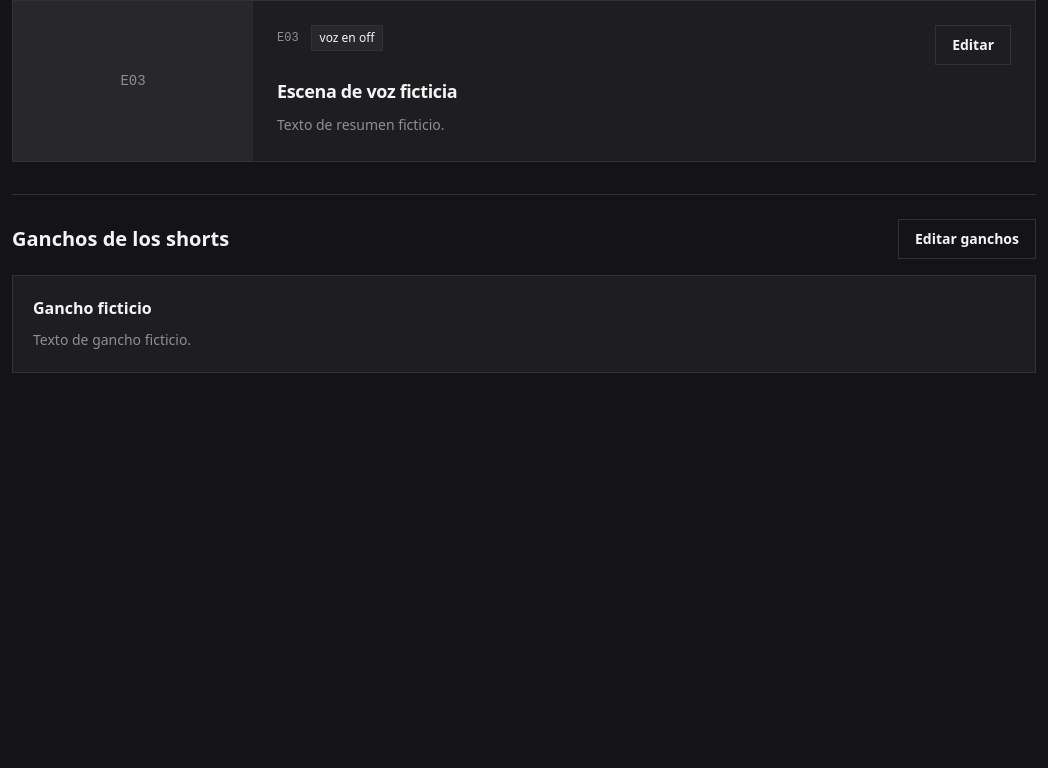
Scenario: GuionEditable: edición mientras se prepara la lección › muestra el 409 de la lección ocupada como un error normal
This screenshot has width=1048, height=768.
Click the button with aria-label "Editar E03" at coordinates (973, 45), box x1=935 y1=25 x2=1011 y2=65
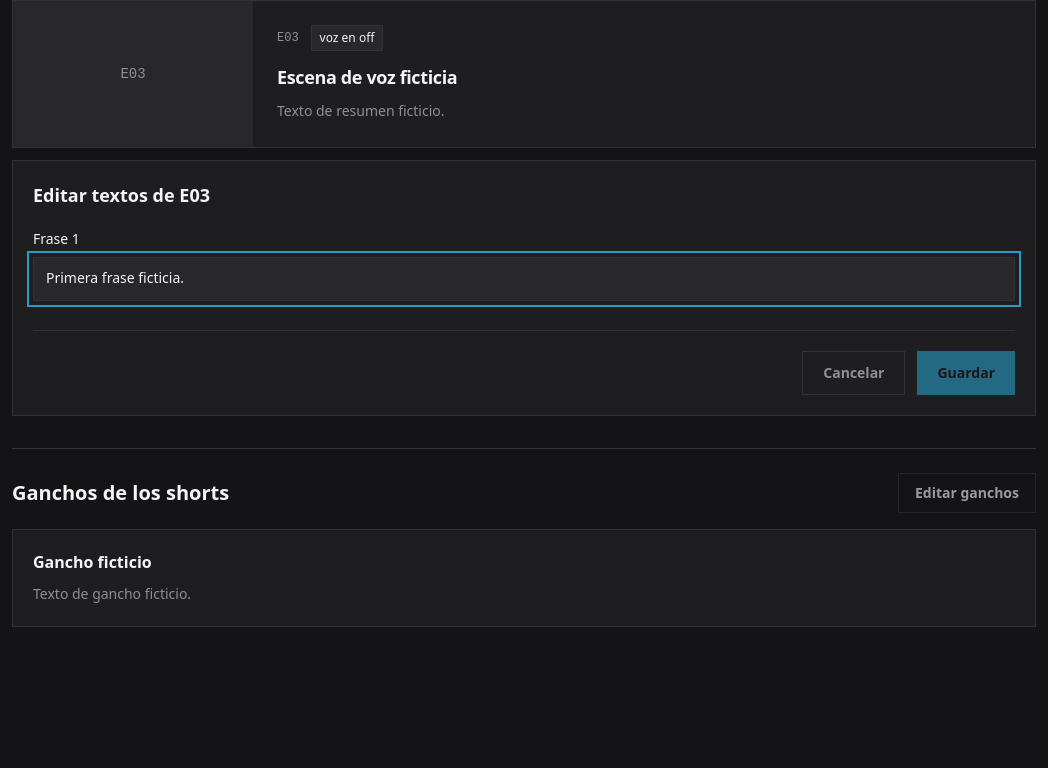
Replace the text in the text box labelled "Frase 1" with "Frase nueva ficticia." at coordinates (524, 279), box x1=33 y1=257 x2=1015 y2=301
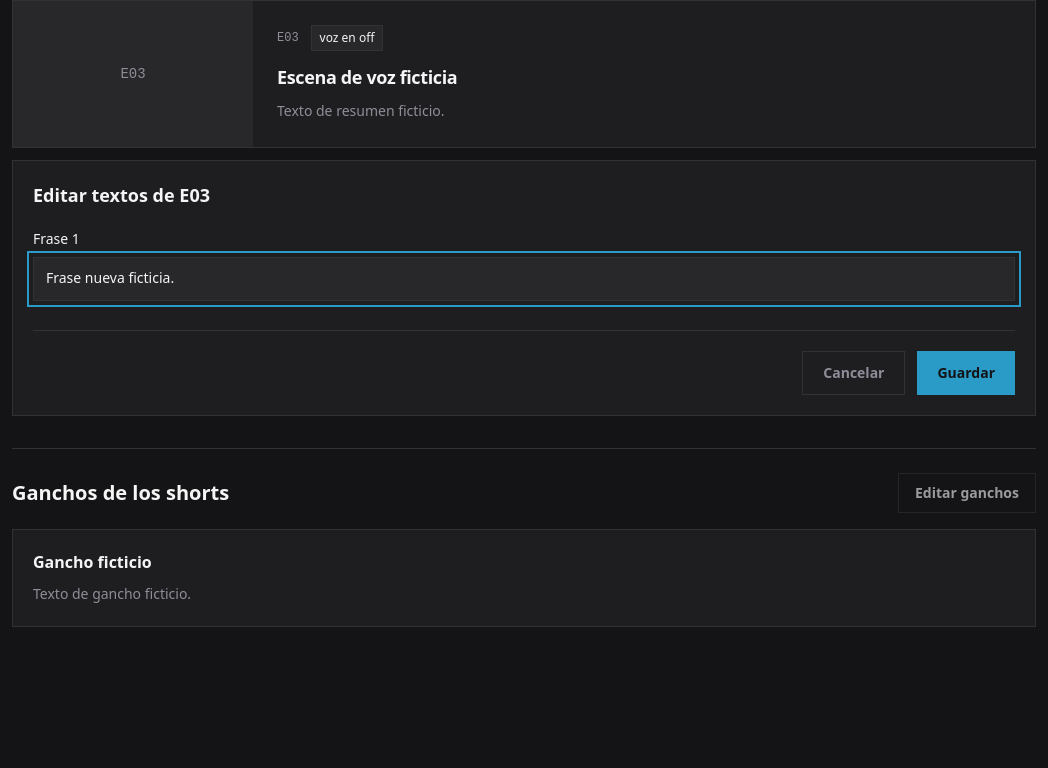
Click the button "Guardar" at coordinates (966, 373), box x1=918 y1=351 x2=1015 y2=395
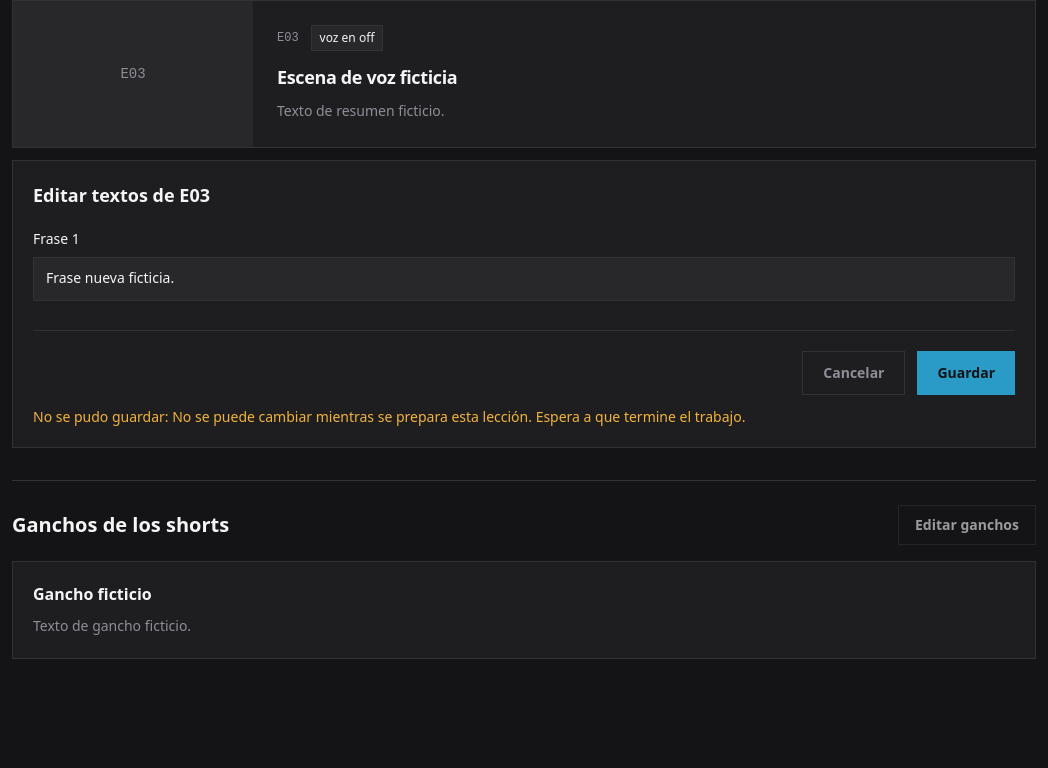
Result: the message shows "No se pudo guardar: No se puede cambiar mientras se prepara esta lección. Espera a que termine el trabajo." at x1=33 y1=407 x2=745 y2=426
